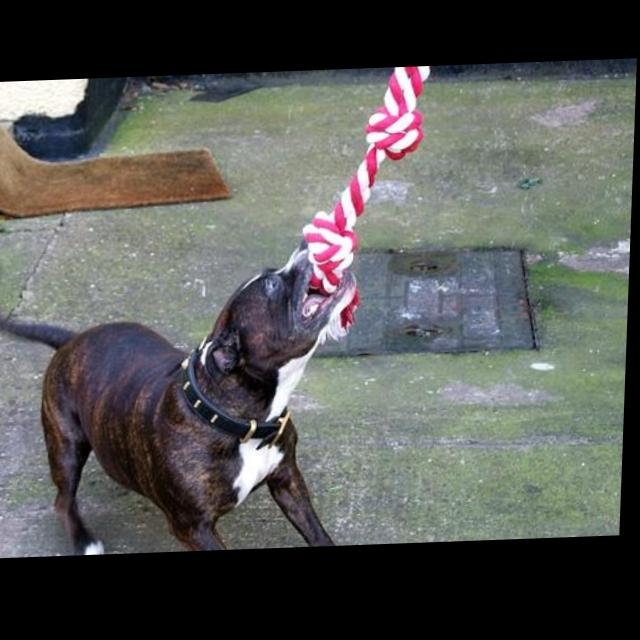staffford: (1, 237, 389, 559)
